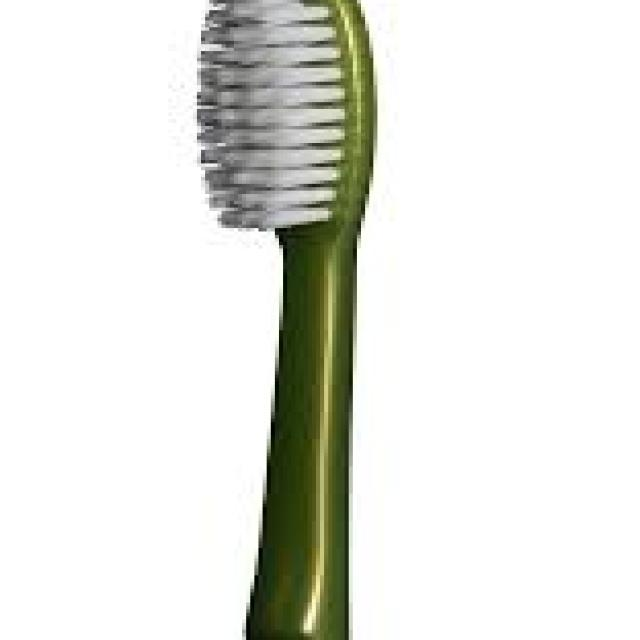organic: (191, 5, 384, 634)
